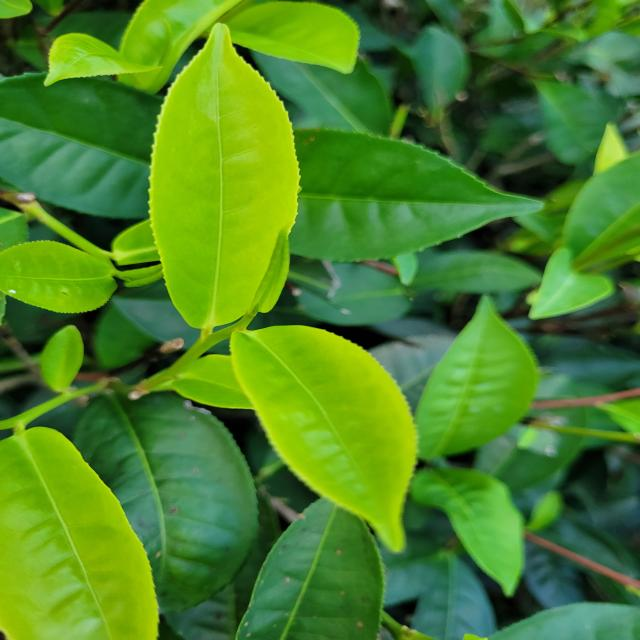Catagory A(1-2 days): (223, 322, 448, 570)
